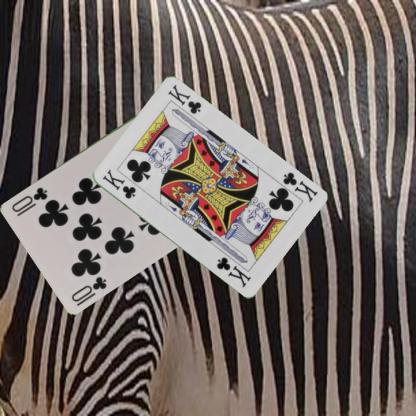10c: (69, 274, 108, 304)
Kc: (280, 169, 318, 204), (99, 166, 137, 200)
